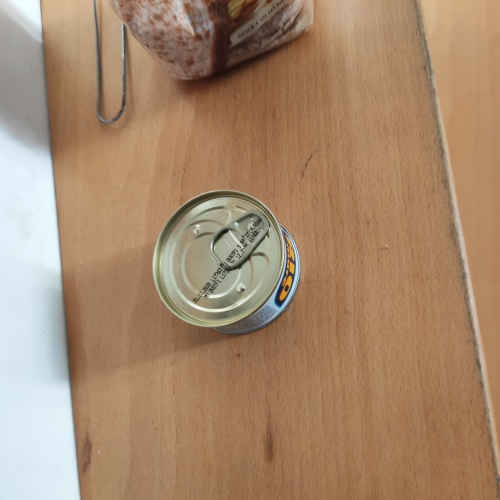tonno: (145, 185, 303, 341)
